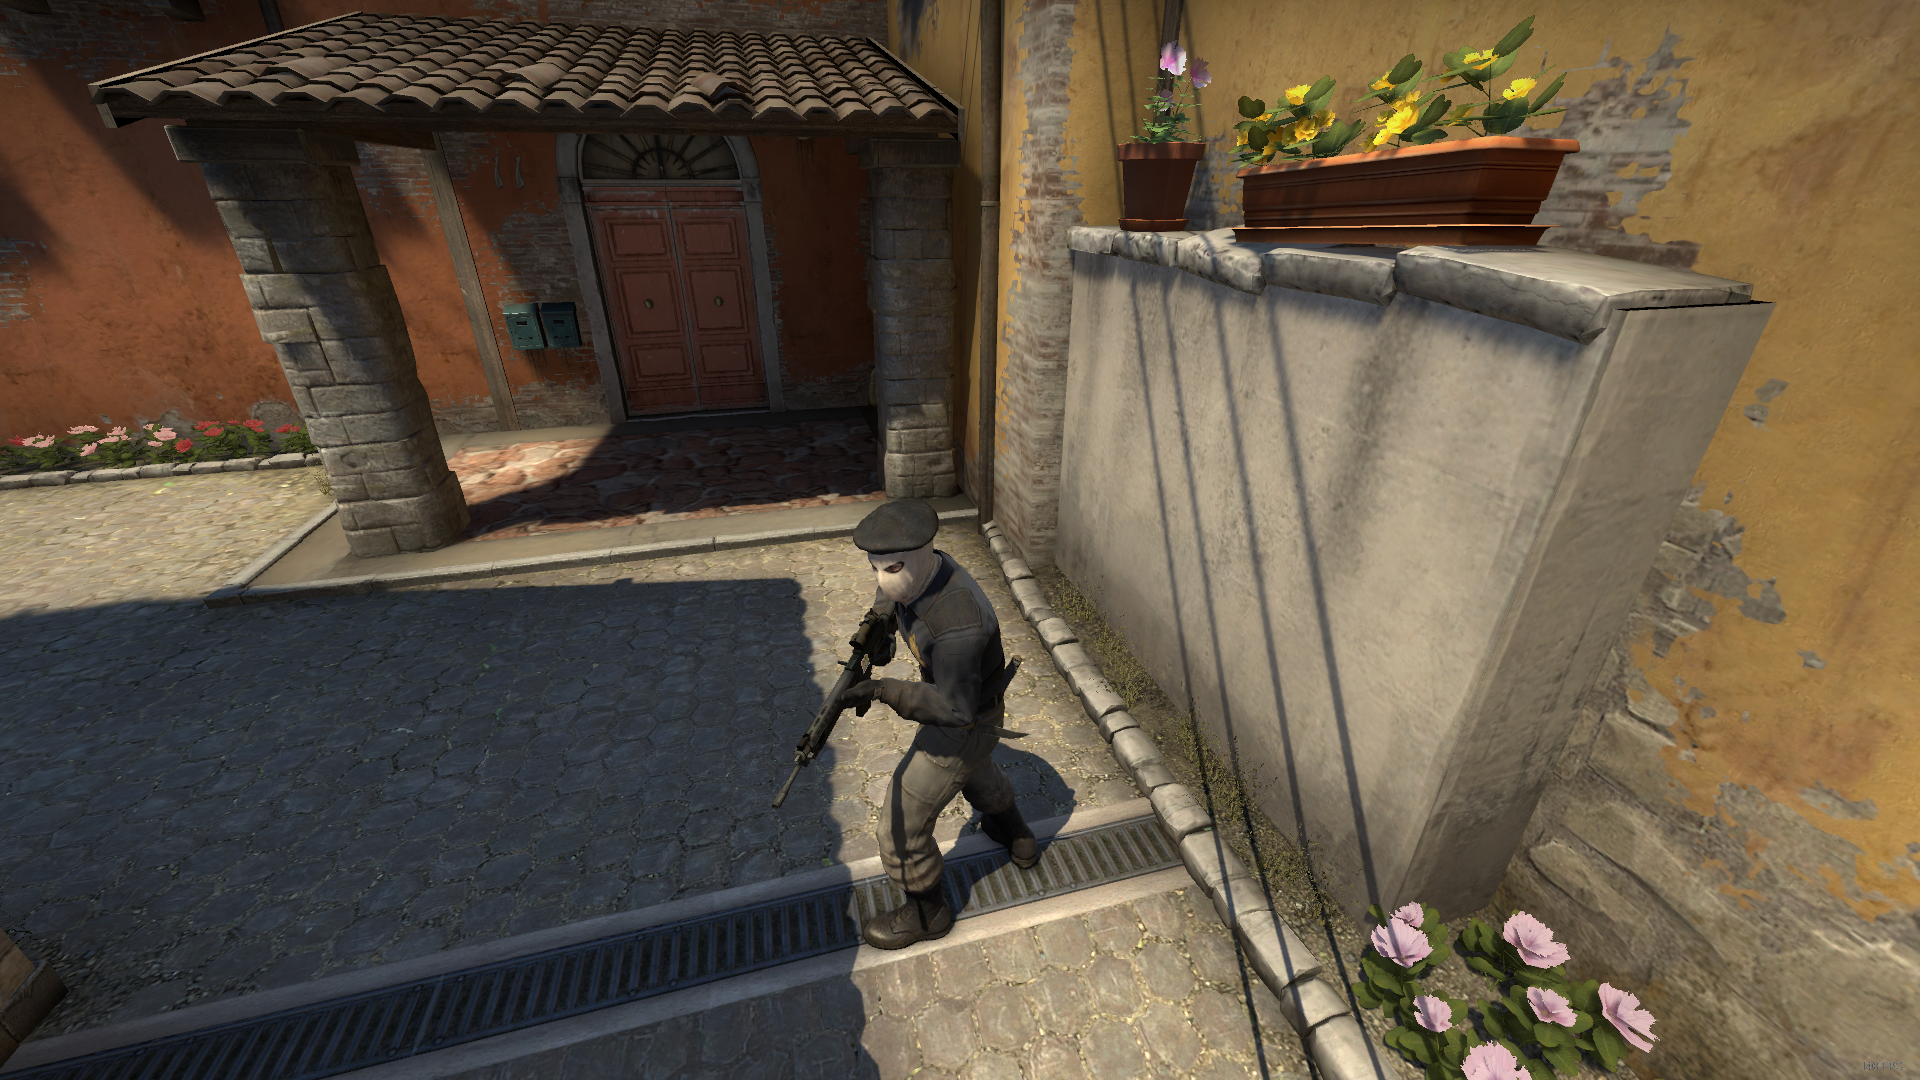t: (789, 501, 1068, 961)
